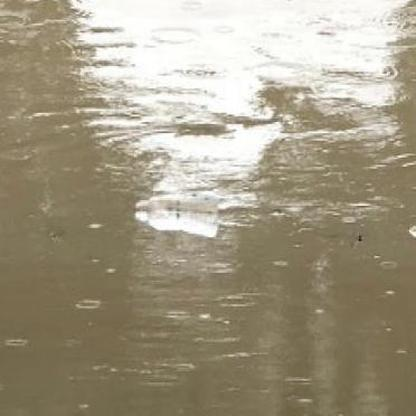plastic bottle: (135, 193, 219, 214)
